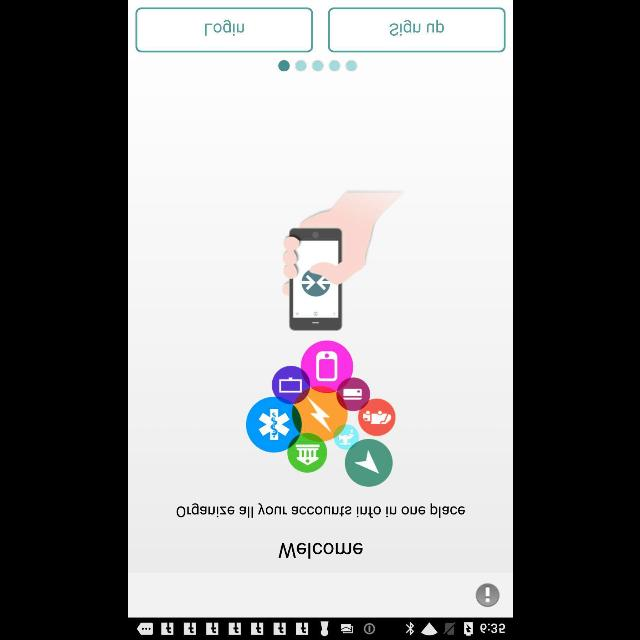icon: (475, 583, 499, 607)
image: (245, 192, 401, 486)
pageindicator: (278, 59, 358, 72)
text: (176, 502, 464, 518), (278, 541, 362, 559)
textbutton: (135, 7, 313, 53), (327, 8, 505, 52)
uppertaskbar: (128, 617, 512, 639)
